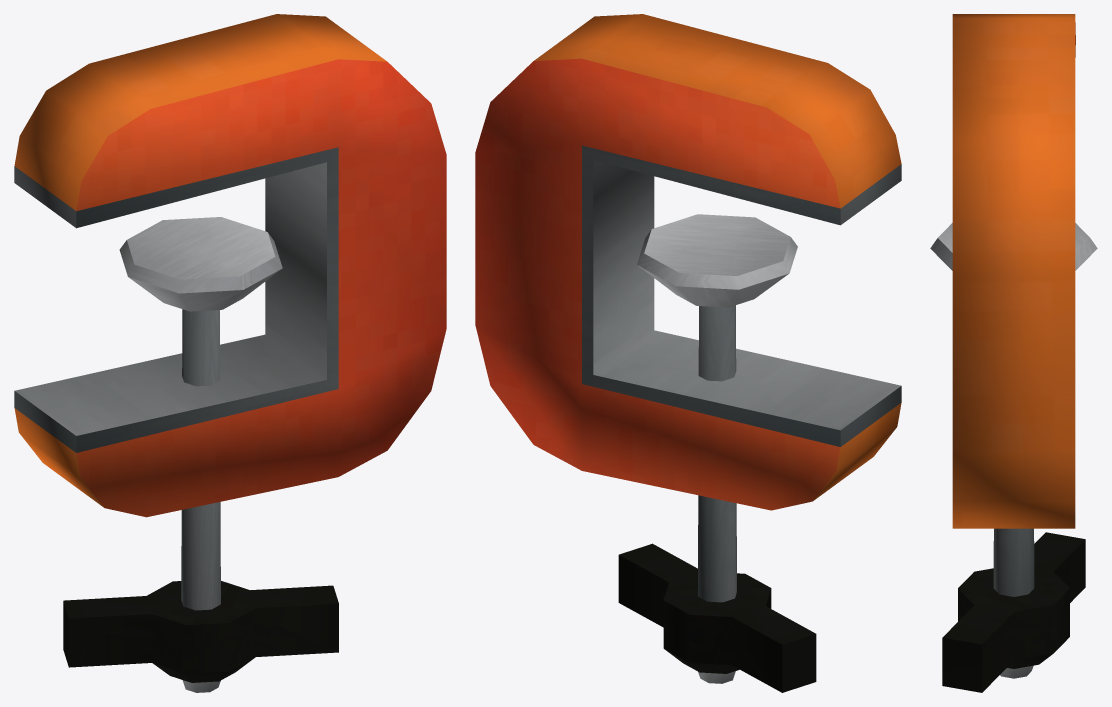
Rendered from clamp.fbx.
The picture shows the model from 3 angles, left to right: view 1: azimuth 30°, elevation 25°; view 2: azimuth 150°, elevation 25°; view 3: azimuth 270°, elevation 25°; orthographic projection.
Parts seen in each view (by area): view 1: clamp; view 2: clamp; view 3: clamp.
Part boxes in pixels (x1,y1,x2,y2): clamp: (14,14,446,692); clamp: (475,14,901,692); clamp: (930,14,1097,692).
Bounding box in the file's own units: 20.83 × 33.51 × 8.24.
